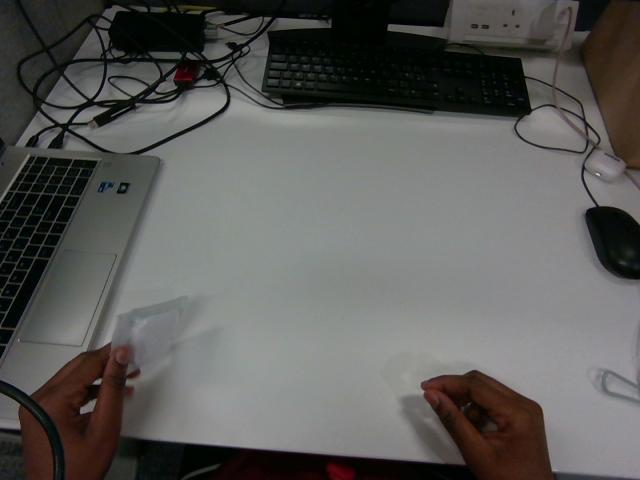gauze: (111, 296, 187, 372)
